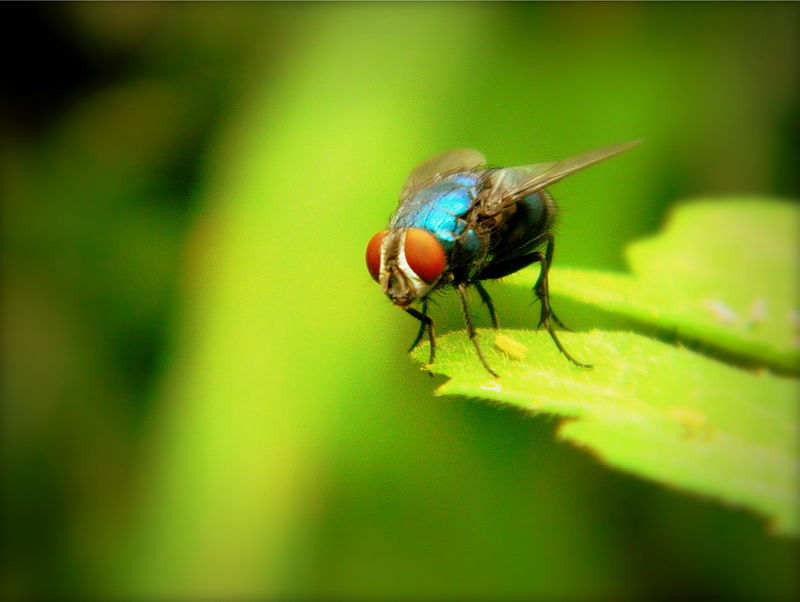green bottles flies: (325, 93, 666, 438)
